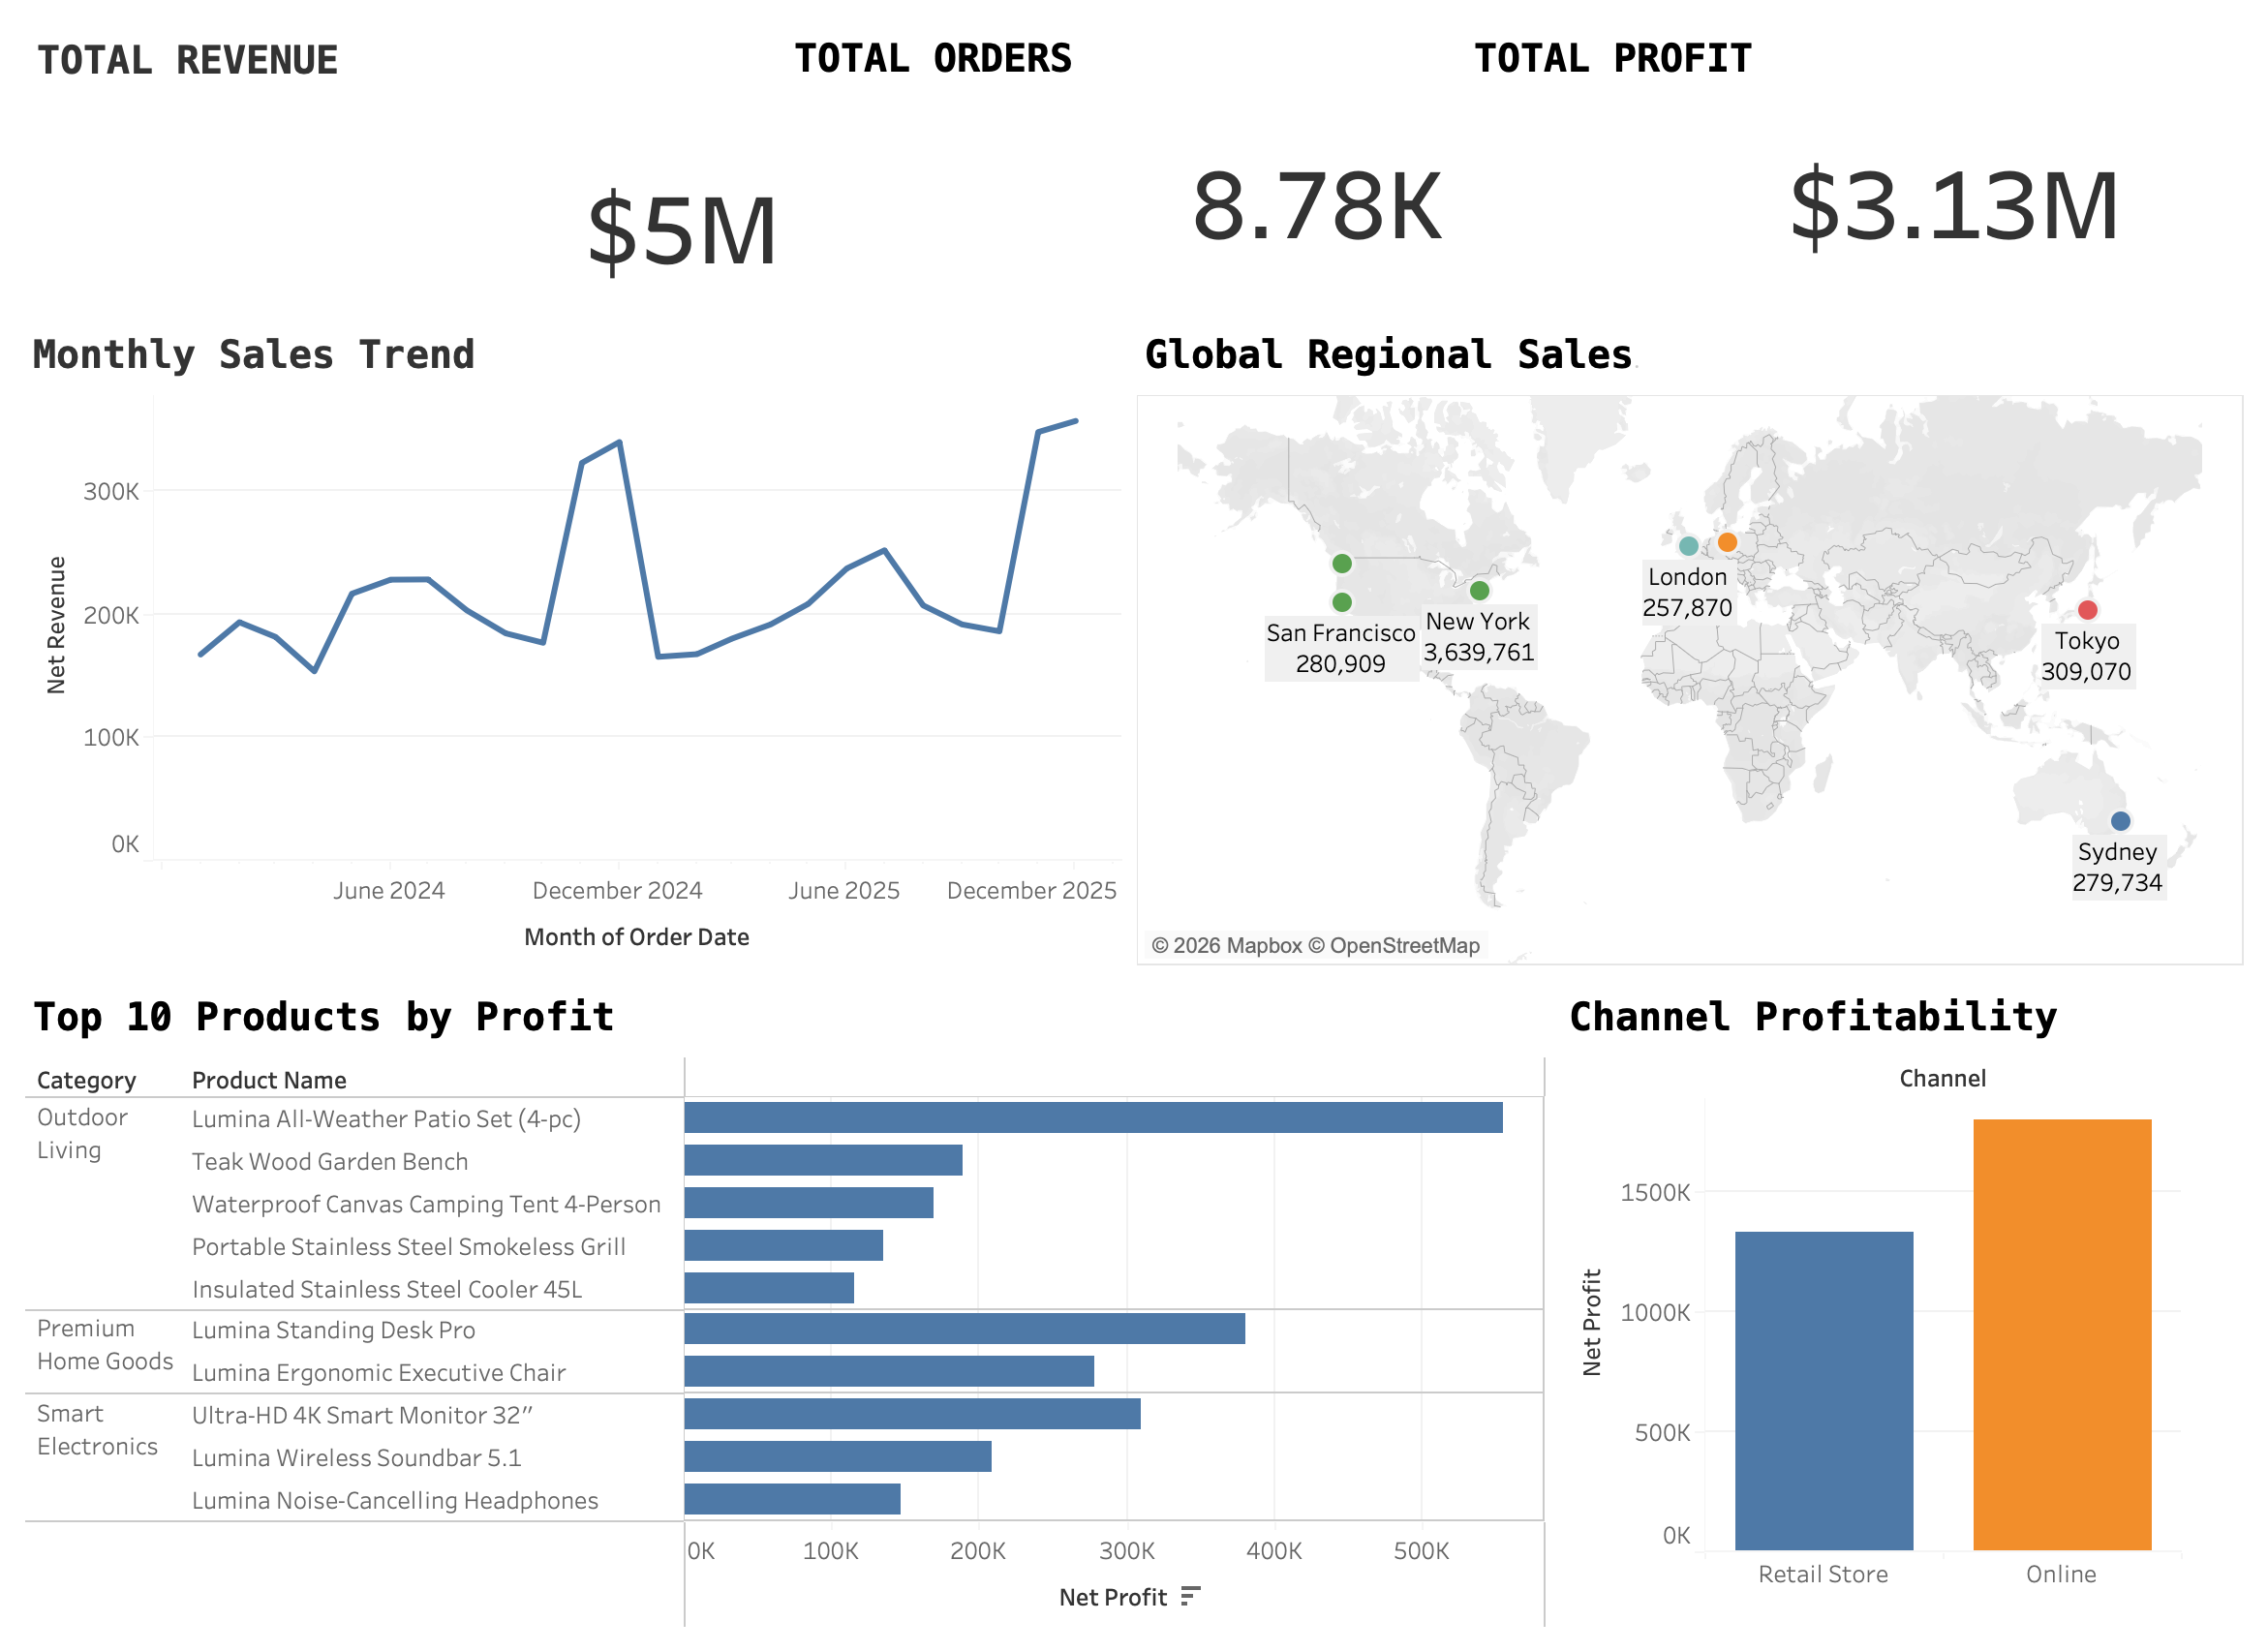

What the dashboard file says about the page in this screenshot:
{"tool":"tableau","page":{"name":"Lumina Retail — Sales & Profitability Overview, 2024–2026.\"","canvas":[1000,1000],"units":"permille","ordinal":0},"visuals":[{"type":"worksheet","title":"TOTAL PROFIT","mark":"Automatic","box":[6.2,10.9,329.4,181.7]},{"type":"worksheet","title":"TOTAL REVENUE","mark":"Automatic","box":[335.7,10.9,329.4,181.7]},{"type":"worksheet","title":"TOTAL ORDERS","mark":"Automatic","box":[665.1,10.9,328.6,181.7]},{"type":"worksheet","title":"Monthly Sales Trend","mark":"Automatic","rows":["Calculation_0979488551202816"],"cols":["order_date"],"box":[7.3,188.8,448.1,400.9]},{"type":"worksheet","title":"Global Regional Sales.","mark":"Automatic","box":[455.4,188.8,537.3,400.9]},{"type":"worksheet","title":"Top 10 Products by Profit","mark":"Automatic","rows":["category","product_name"],"cols":["Calculation_0979488552247297"],"box":[7.3,589.7,619.1,400.8]},{"type":"worksheet","title":"Channel Profitability","mark":"Automatic","rows":["Calculation_0979488552247297"],"cols":["channel"],"box":[626.3,589.7,256.1,400.8]}]}

Visuals, with their boxes on the dashboard's canvas, which has no fixed pixel size, in thousandths of its width and height (x1, y1, x2, y2). These are canvas units, not pixel positions in the 2268x1652 screenshot, which may show the page scaled, cropped or inside an application window:
"TOTAL PROFIT" worksheet: Rect(6, 11, 336, 193)
"TOTAL REVENUE" worksheet: Rect(336, 11, 665, 193)
"TOTAL ORDERS" worksheet: Rect(665, 11, 994, 193)
"Monthly Sales Trend" worksheet: Rect(7, 189, 455, 590)
"Global Regional Sales." worksheet: Rect(455, 189, 993, 590)
"Top 10 Products by Profit" worksheet: Rect(7, 590, 626, 990)
"Channel Profitability" worksheet: Rect(626, 590, 882, 990)
